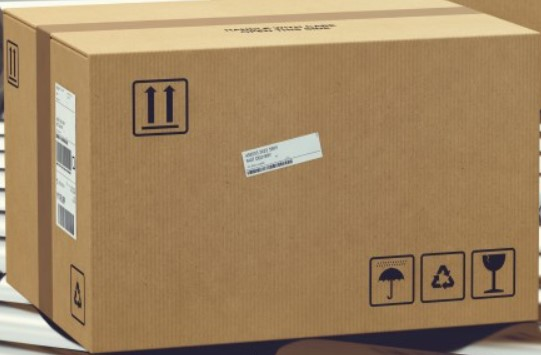stock: (3, 1, 541, 353)
